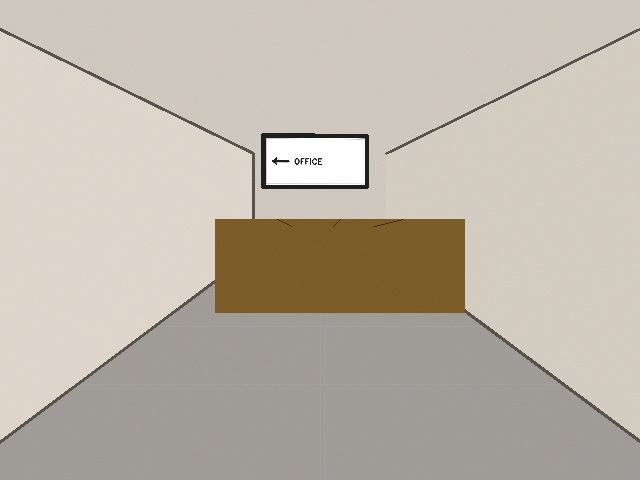directional_sign: (262, 134, 367, 187)
pallet: (215, 219, 464, 312), (291, 231, 395, 270)
